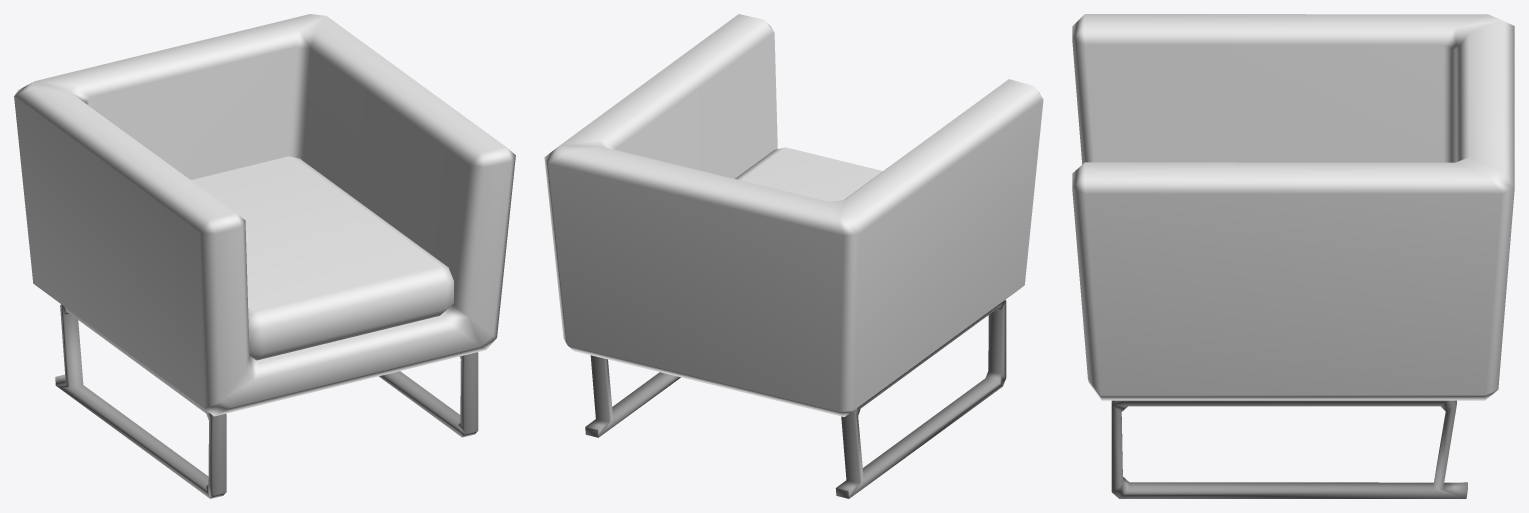
File: armchair_003.glb
3 renders of one model, left to right at view 1: azimuth 30°, elevation 25°; view 2: azimuth 150°, elevation 25°; view 3: azimuth 270°, elevation 25°, orthographic. The views are drawn at different scales.
Visible parts, largest first — view 1: armchair_003; view 2: armchair_003; view 3: armchair_003.
Part boxes in pixels (bbox=[...]): armchair_003: bbox=[14, 14, 515, 498]; armchair_003: bbox=[544, 14, 1043, 498]; armchair_003: bbox=[1072, 14, 1514, 498].
Bounding box in the file's own units: 0.7688 × 0.6854 × 0.8288.
1 material, 1 textured.
